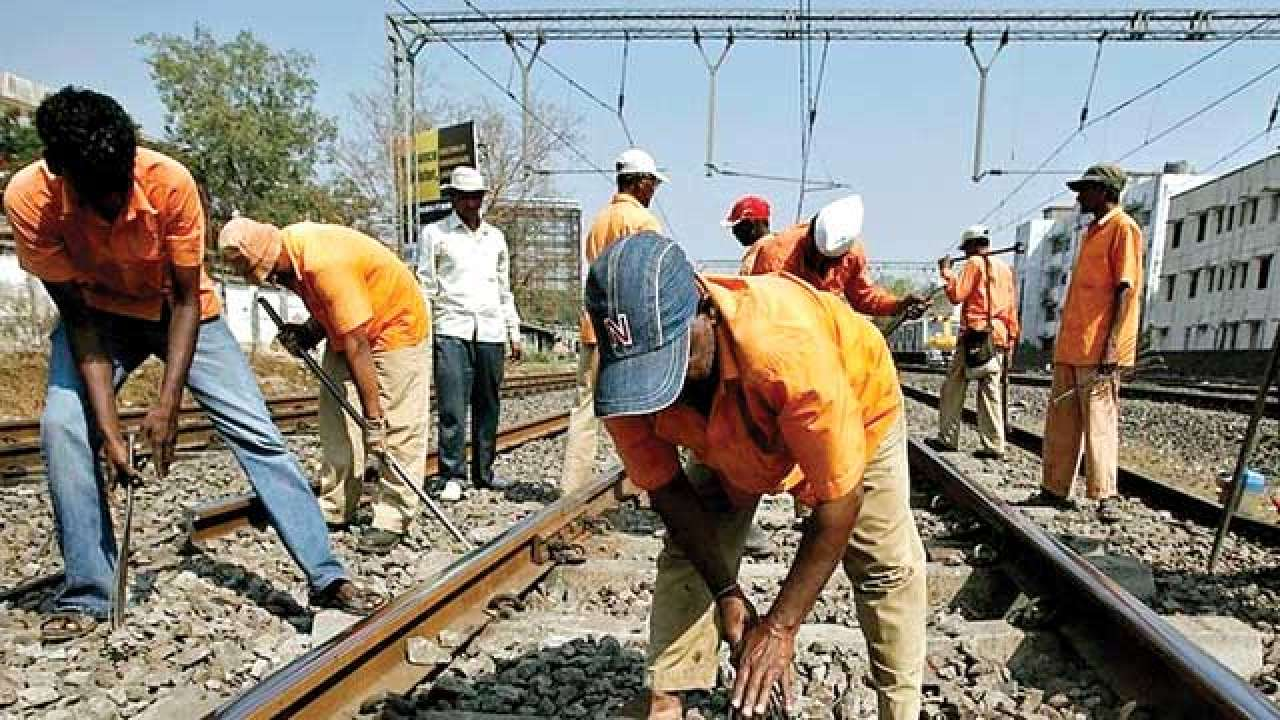NOTSAFE: (589, 249, 893, 492), (5, 82, 208, 324), (216, 204, 426, 347), (1060, 164, 1140, 369), (433, 162, 508, 341), (946, 225, 1014, 349)
